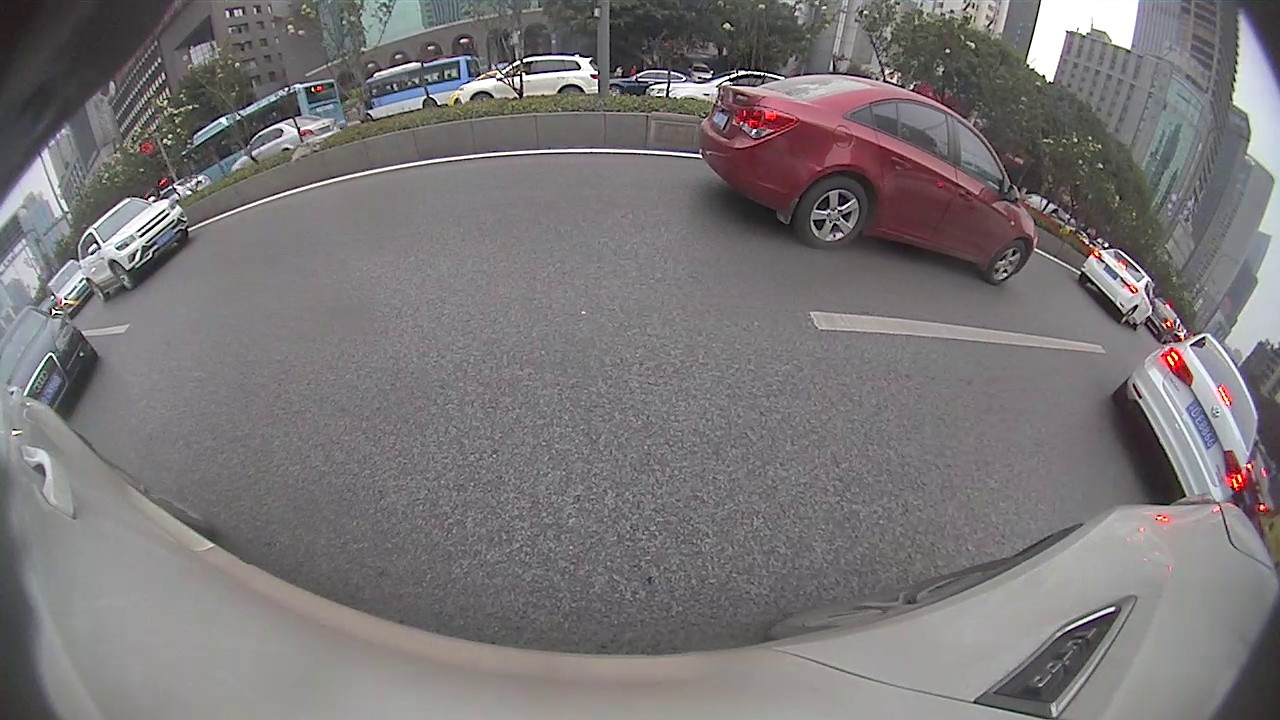car: (696, 73, 1037, 288), (1112, 333, 1260, 503), (76, 195, 192, 303), (2, 299, 98, 413), (457, 54, 599, 101), (1078, 246, 1158, 328)
front: (986, 242, 1026, 286), (110, 261, 135, 292), (471, 93, 493, 109)
rear: (798, 176, 868, 249), (559, 87, 583, 109), (421, 99, 438, 113)
